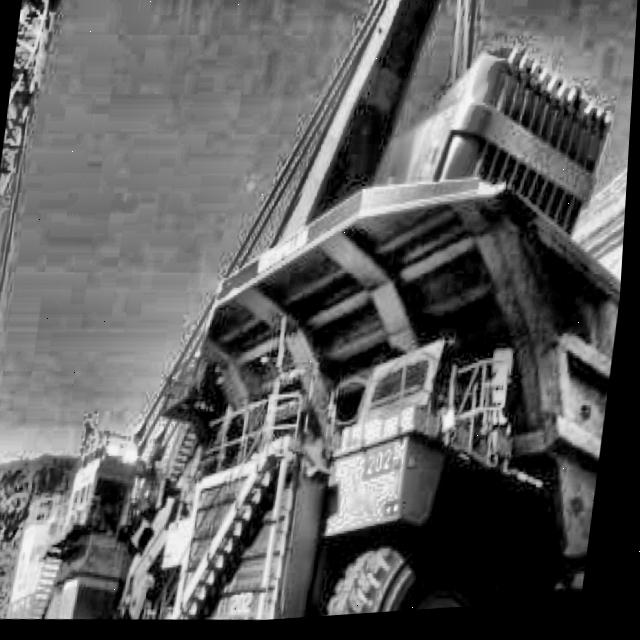dump_truck: (142, 142, 632, 631)
